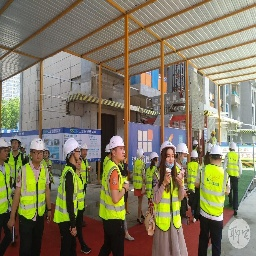helmet: (62, 137, 82, 155), (28, 139, 46, 154), (107, 135, 126, 148), (209, 146, 225, 157)
person: (148, 139, 192, 256), (54, 134, 96, 256), (15, 137, 53, 256), (98, 134, 131, 256), (197, 144, 228, 256)
vest: (19, 163, 51, 224), (99, 161, 128, 220), (201, 162, 227, 218), (58, 169, 77, 222)
